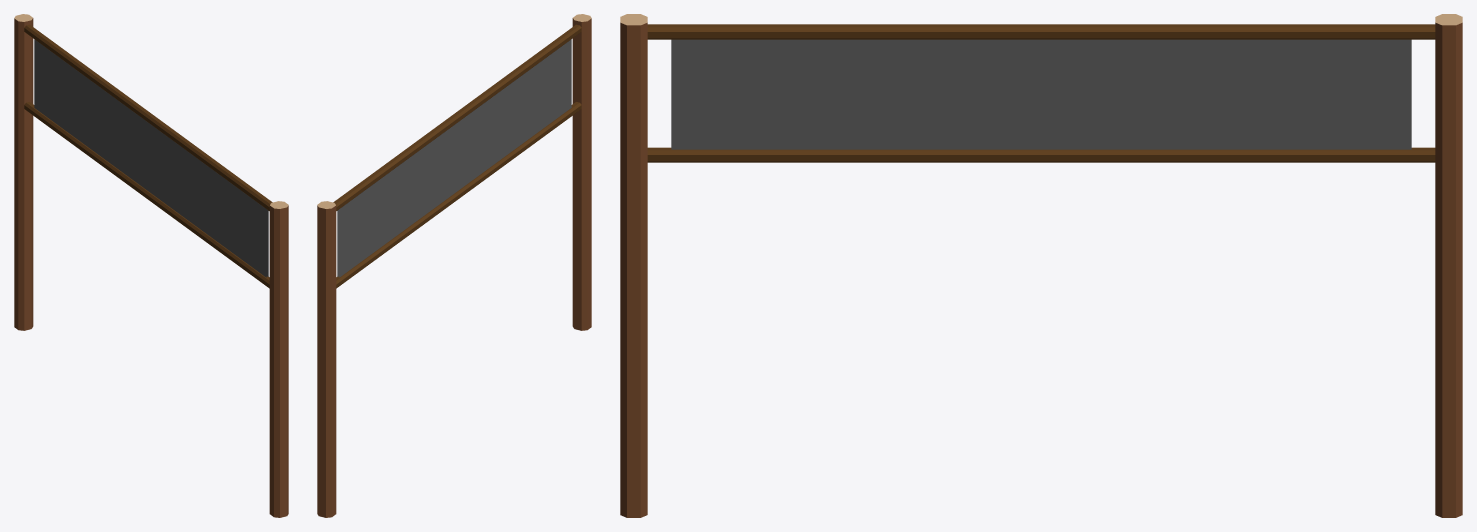
The model's file is Prop_Track_Banner_Finish_Line_Double_Blank.obj.
3 views of the same model, side by side, from view 1: azimuth 30°, elevation 25°; view 2: azimuth 150°, elevation 25°; view 3: azimuth 270°, elevation 25° (orthographic). The views are drawn at different scales.
Parts seen in each view (by area): view 1: Banner_Back, Flag_Pole_Side, Flag_Rail; view 2: Banner_Back, Flag_Pole_Side, Flag_Rail; view 3: Banner_Front, Flag_Pole_Side, Flag_Rail.
Part boxes in pixels (bbox=[...]): Banner_Back: bbox=[34, 39, 266, 277]; Flag_Pole_Side: bbox=[14, 18, 288, 517]; Flag_Rail: bbox=[24, 24, 272, 288]; Banner_Back: bbox=[339, 39, 571, 277]; Flag_Pole_Side: bbox=[317, 18, 591, 517]; Flag_Rail: bbox=[333, 24, 581, 288]; Banner_Front: bbox=[671, 39, 1411, 149]; Flag_Pole_Side: bbox=[620, 22, 1462, 517]; Flag_Rail: bbox=[647, 24, 1435, 162].
Size of the model in its own units: 0.1 by 2 by 3.1.
